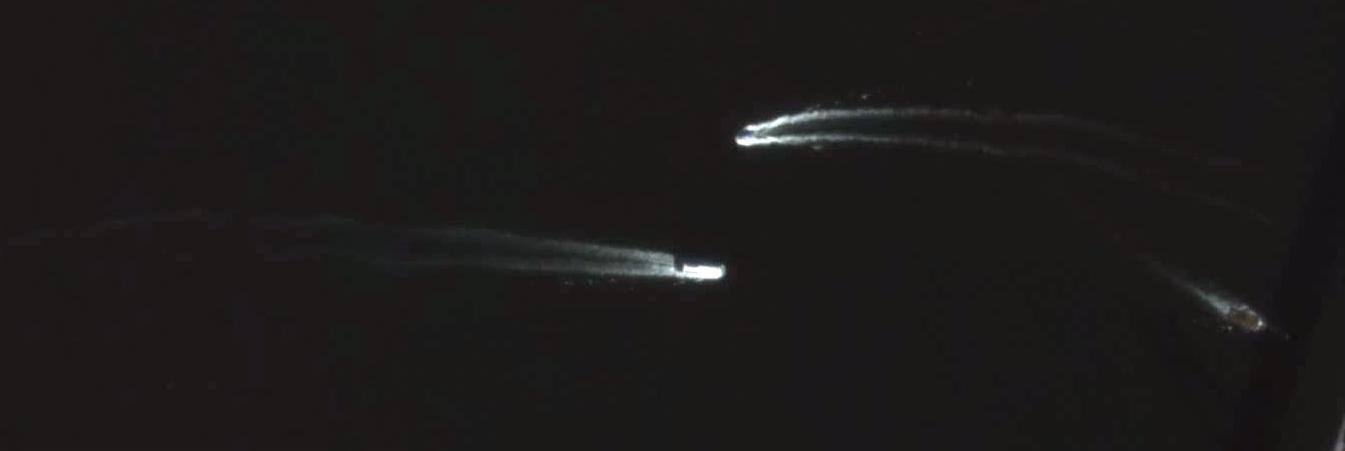person: (1226, 306, 1267, 333), (683, 264, 725, 280), (737, 130, 753, 137)
